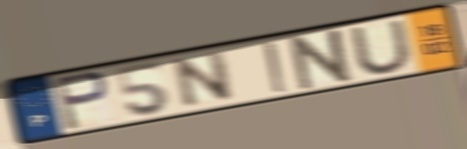5: (114, 57, 174, 118)
I: (260, 39, 291, 96)
N: (287, 25, 358, 93), (172, 48, 237, 110)
P: (51, 69, 113, 133)
U: (346, 17, 417, 75)
